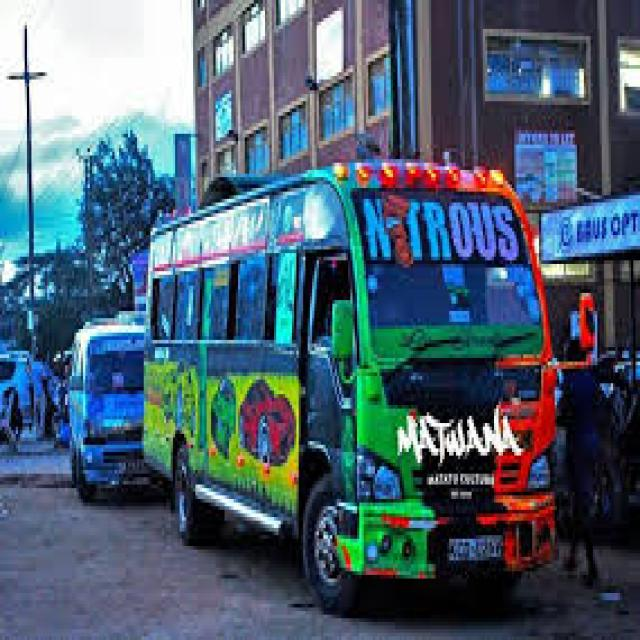bus: (141, 156, 579, 618)
matatu: (62, 317, 131, 516)
